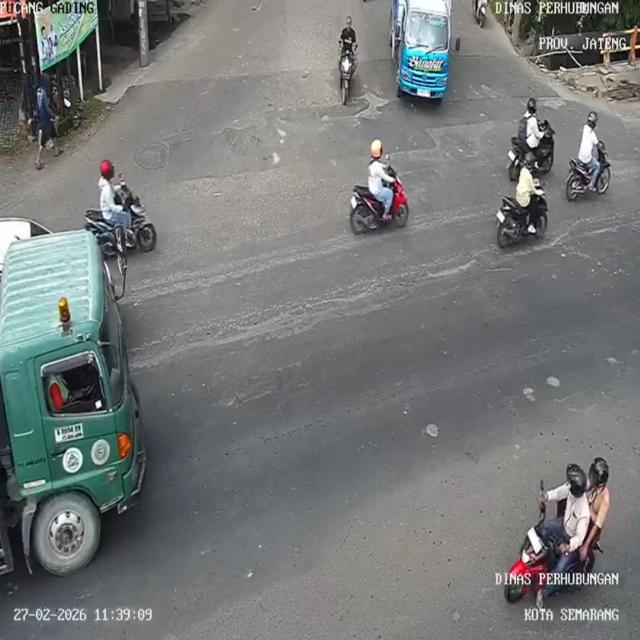motorcycle: (501, 524, 605, 607), (82, 200, 167, 259), (343, 184, 415, 236), (490, 188, 550, 247), (560, 154, 616, 203), (509, 128, 555, 182), (334, 53, 355, 106)
person: (548, 468, 589, 574), (94, 156, 138, 247), (361, 129, 394, 222), (580, 458, 613, 546), (514, 150, 538, 234), (577, 111, 600, 194), (519, 93, 544, 153), (337, 15, 359, 56)
rider_region: (500, 453, 612, 600), (87, 158, 160, 256), (350, 136, 414, 236), (493, 152, 551, 246), (568, 106, 616, 205), (505, 96, 555, 180), (335, 17, 360, 108)
